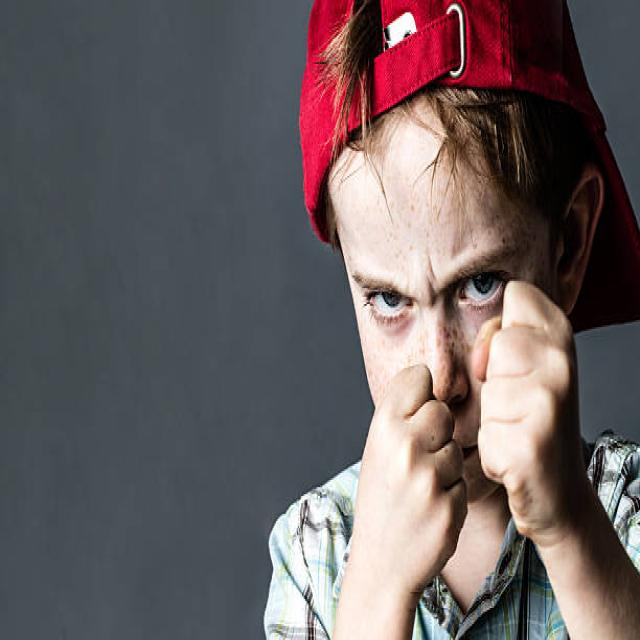fight: (280, 2, 640, 640)
